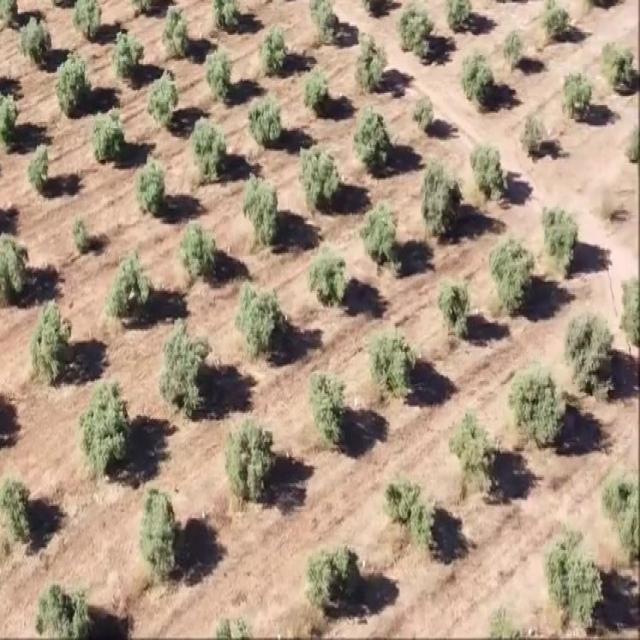trees: (358, 447, 455, 583), (147, 302, 222, 427), (216, 396, 278, 533), (74, 366, 142, 487), (542, 514, 610, 633), (503, 344, 573, 454), (131, 472, 192, 598), (406, 144, 472, 253), (226, 264, 288, 376), (559, 299, 618, 413), (303, 520, 371, 614), (24, 281, 79, 395), (351, 183, 405, 286), (304, 352, 360, 449), (480, 214, 533, 316), (448, 397, 496, 506), (366, 311, 422, 403), (182, 102, 232, 202), (102, 240, 157, 330), (0, 459, 45, 566), (300, 234, 353, 322), (430, 260, 475, 358), (237, 167, 286, 255), (174, 203, 225, 287), (542, 177, 582, 281), (464, 124, 511, 212), (237, 86, 293, 158), (295, 136, 343, 218), (342, 30, 396, 102), (350, 98, 395, 183), (452, 38, 500, 115), (88, 96, 132, 177), (132, 148, 174, 224), (552, 57, 598, 126), (104, 21, 148, 92), (1, 221, 38, 294), (398, 0, 436, 70), (201, 40, 242, 104), (248, 22, 291, 83), (18, 5, 58, 70), (156, 0, 194, 68), (596, 31, 634, 95), (146, 61, 181, 130), (57, 52, 93, 119), (0, 73, 26, 164), (300, 53, 333, 119), (517, 104, 555, 159), (407, 82, 443, 140), (23, 141, 58, 199), (532, 0, 572, 48), (59, 202, 94, 256), (305, 0, 341, 50), (67, 0, 106, 43), (500, 20, 524, 76)
